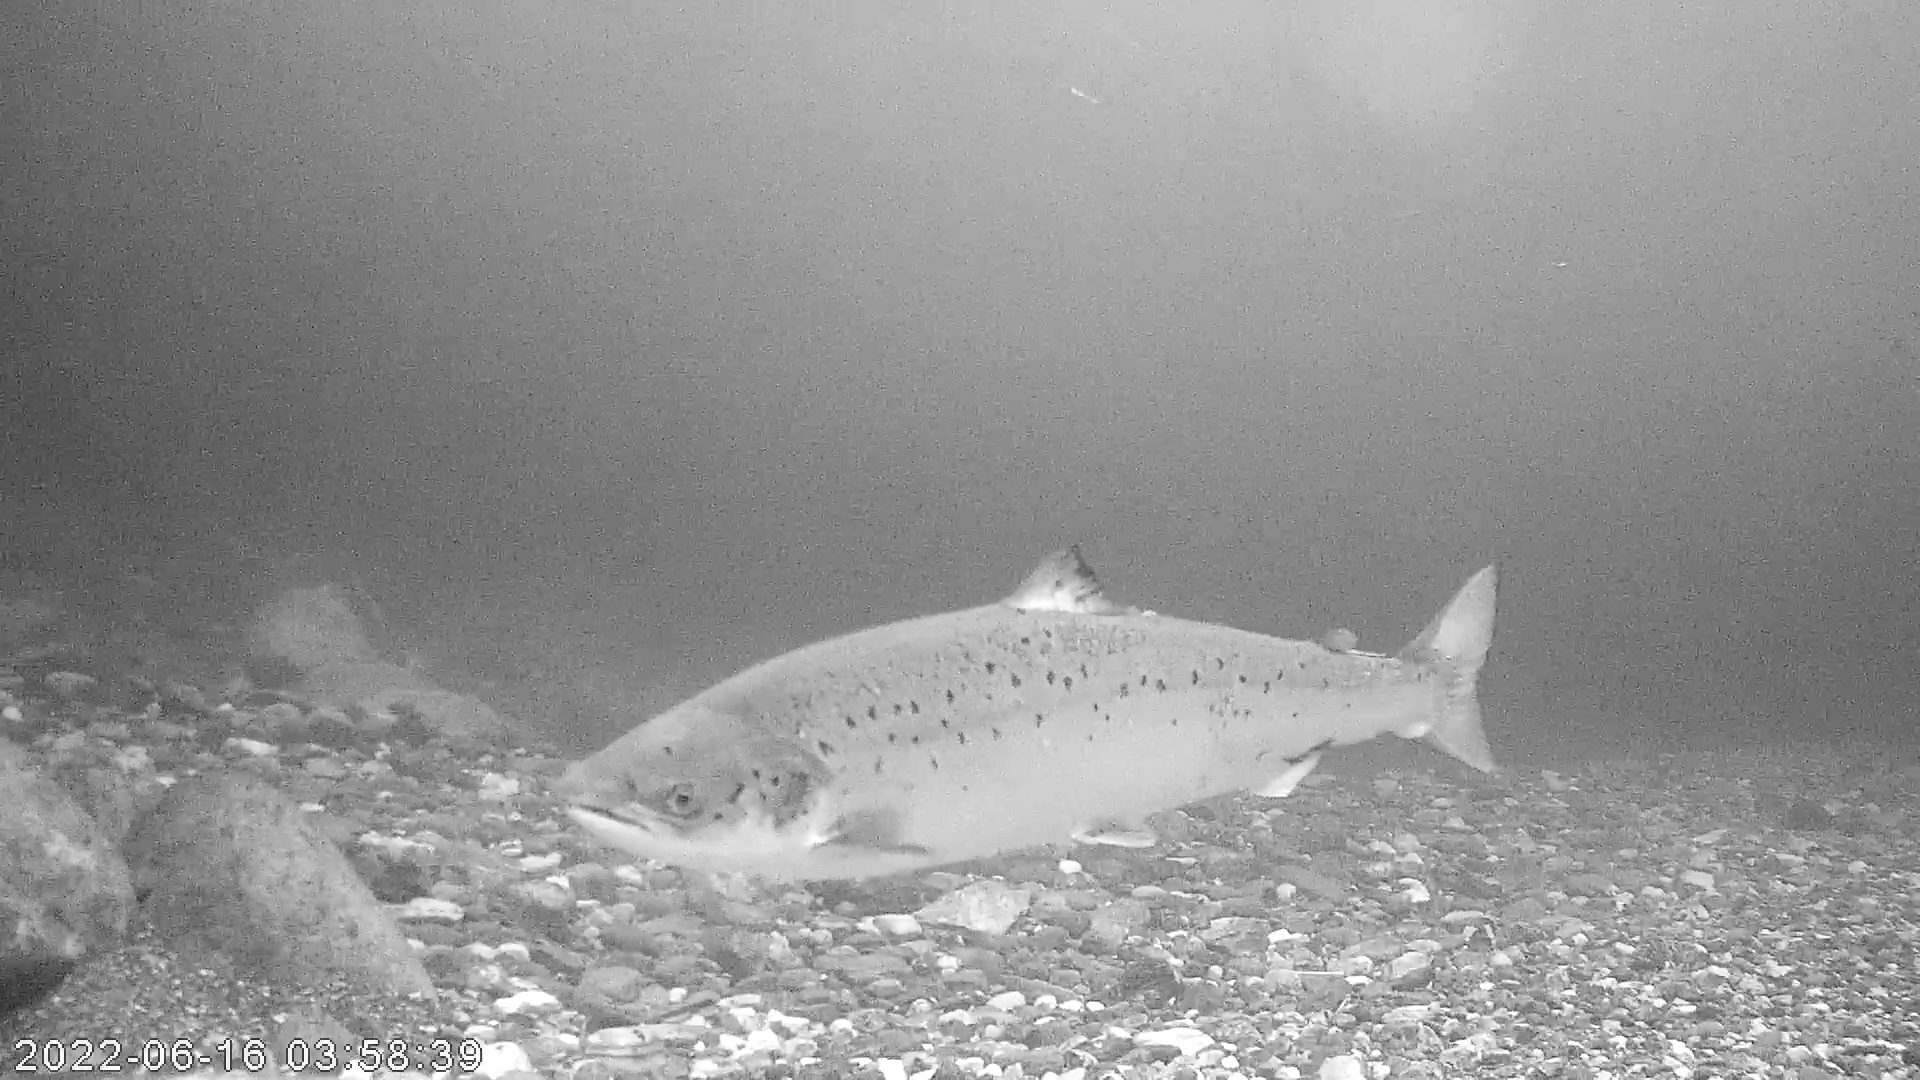salmon: (553, 542, 1502, 884)
